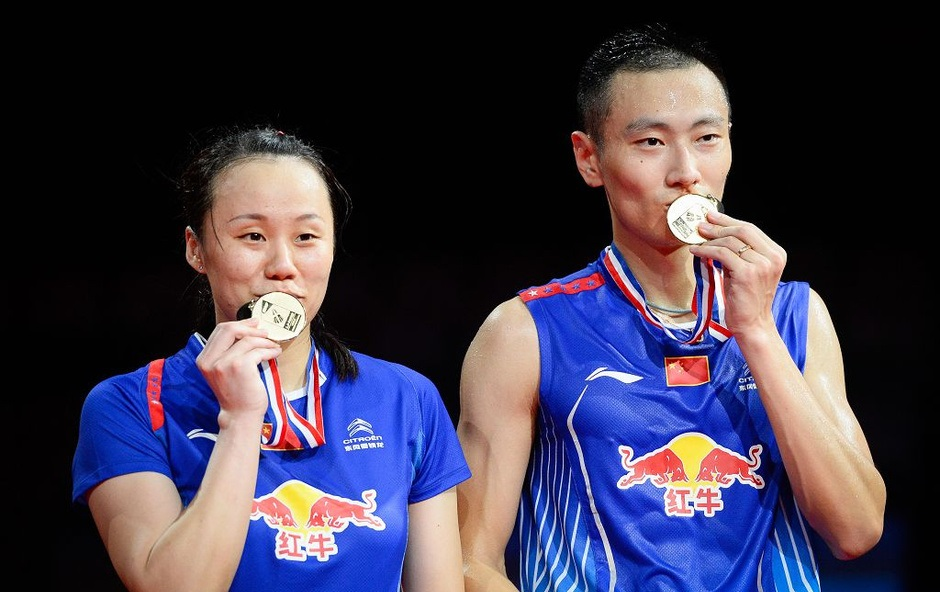face: (193, 162, 341, 333), (604, 66, 735, 246)
